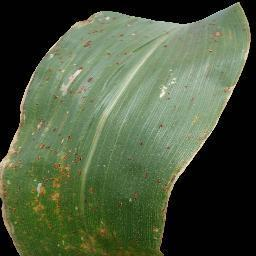Corn_Common_Rust: (0, 111, 84, 256), (13, 7, 104, 112), (84, 178, 154, 256), (154, 163, 194, 256), (104, 9, 138, 69), (203, 15, 236, 55), (220, 73, 241, 111), (160, 69, 178, 99), (203, 126, 224, 144), (187, 139, 203, 162), (190, 114, 202, 127), (187, 94, 197, 108), (158, 120, 167, 131), (162, 40, 169, 51), (165, 144, 173, 151), (138, 141, 145, 148)
